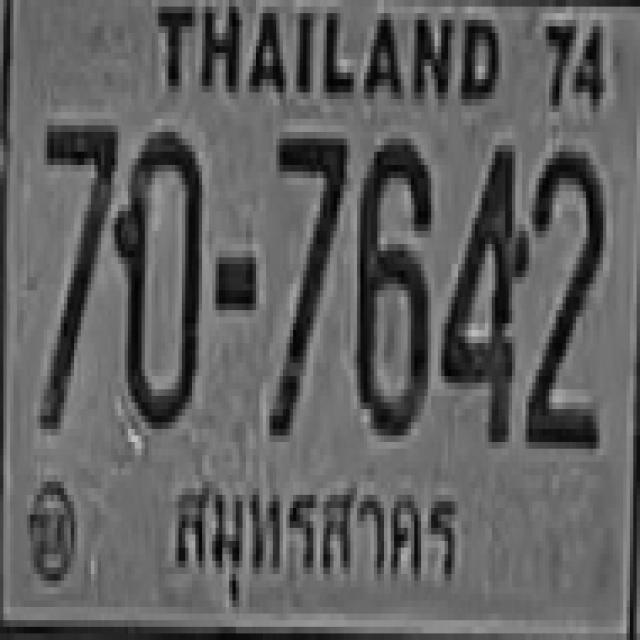0: (114, 125, 198, 422)
2: (522, 142, 600, 439)
4: (438, 135, 522, 432)
6: (353, 128, 428, 426)
7: (42, 116, 116, 426), (268, 132, 345, 429)
SamutSakhon: (168, 462, 463, 621)
